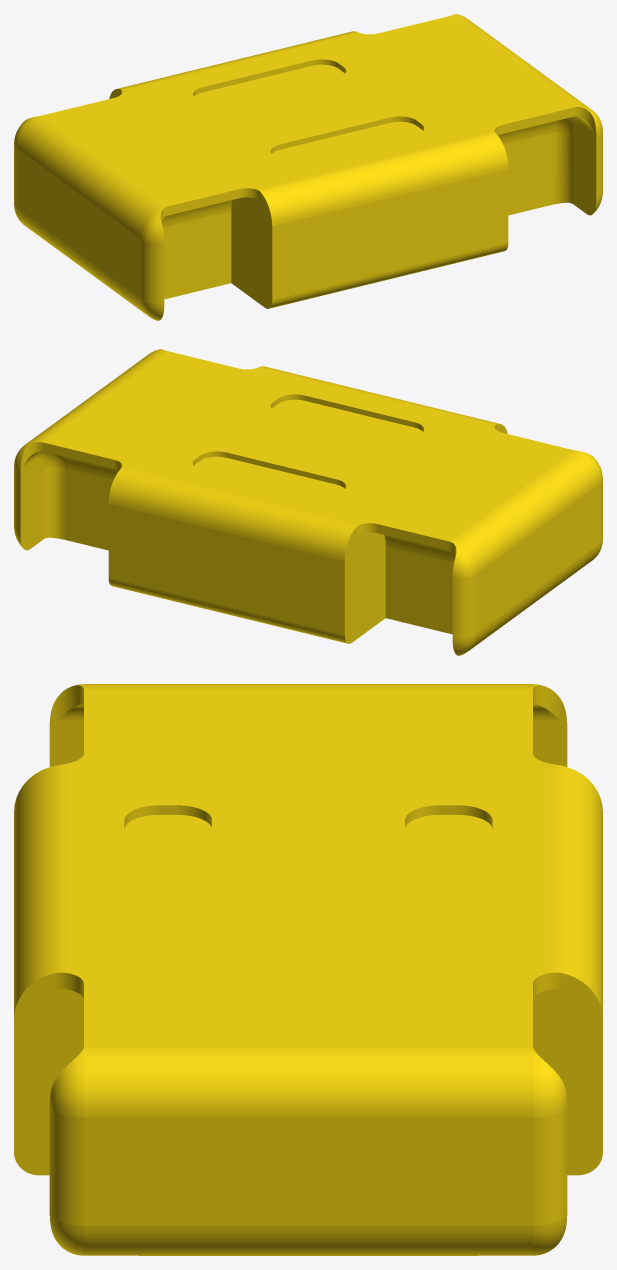
3 renders of one model, top to bottom at view 1: azimuth 30°, elevation 25°; view 2: azimuth 150°, elevation 25°; view 3: azimuth 270°, elevation 25°, orthographic. The views are drawn at different scales.
Parts seen in each view (by area): view 1: ID2; view 2: ID2; view 3: ID2.
Boxes of the visible parts, box(x1,y1,x2,y2) form: ID2: box(14, 14, 602, 320); ID2: box(14, 349, 602, 655); ID2: box(14, 684, 602, 1255).
Bounding box in the file's own units: 0.272 × 0.168 × 0.064.
